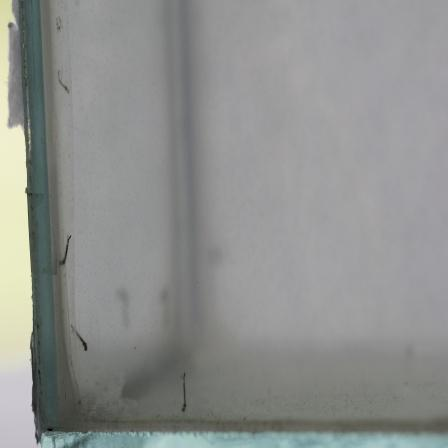Jentik-Nyamuk: (53, 232, 76, 270), (176, 369, 191, 413), (53, 66, 73, 98), (73, 326, 91, 353)
